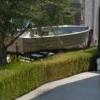Boat: (12, 19, 91, 54)
